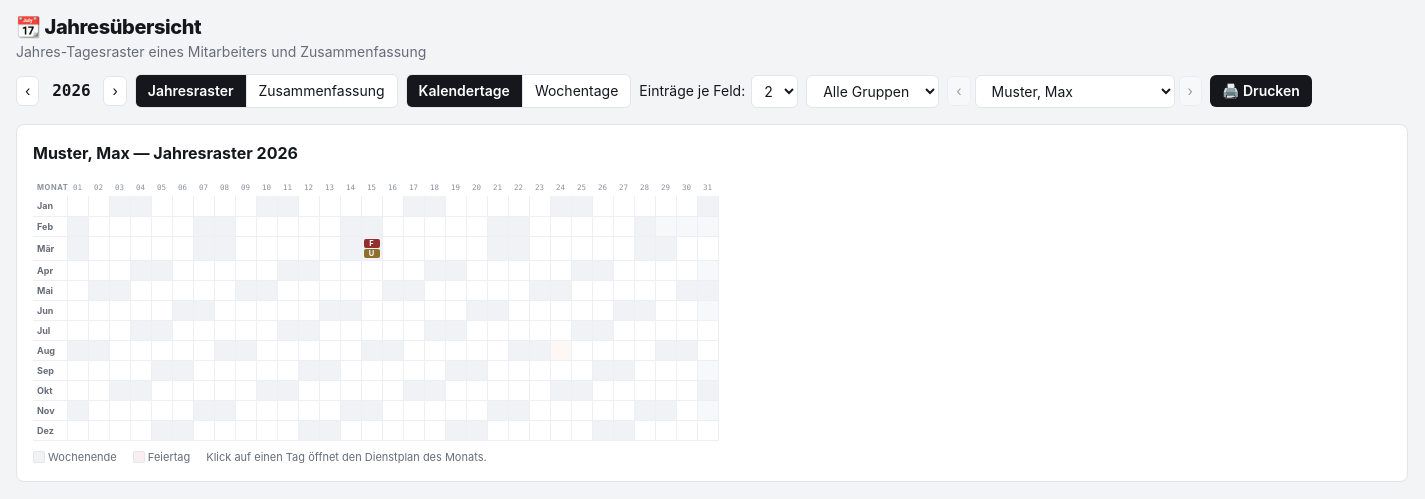
Test: Jahresübersicht — Anzeigeoptionen-Toolbar (Spec 4.11.11) › Einträge je Feld: Default 2, Auswahl 1 blendet Überzählige aus (▾)
Expected: the table with test id "jahresraster" is shown, [33,181,718,441]
Expected: the cell with test id "jr-cell-3-15" shows "F", [369,239,374,248]
Select "1" in the dropdown labelled "Einträge je Feld:" at (775, 91), box [751,74,798,108]
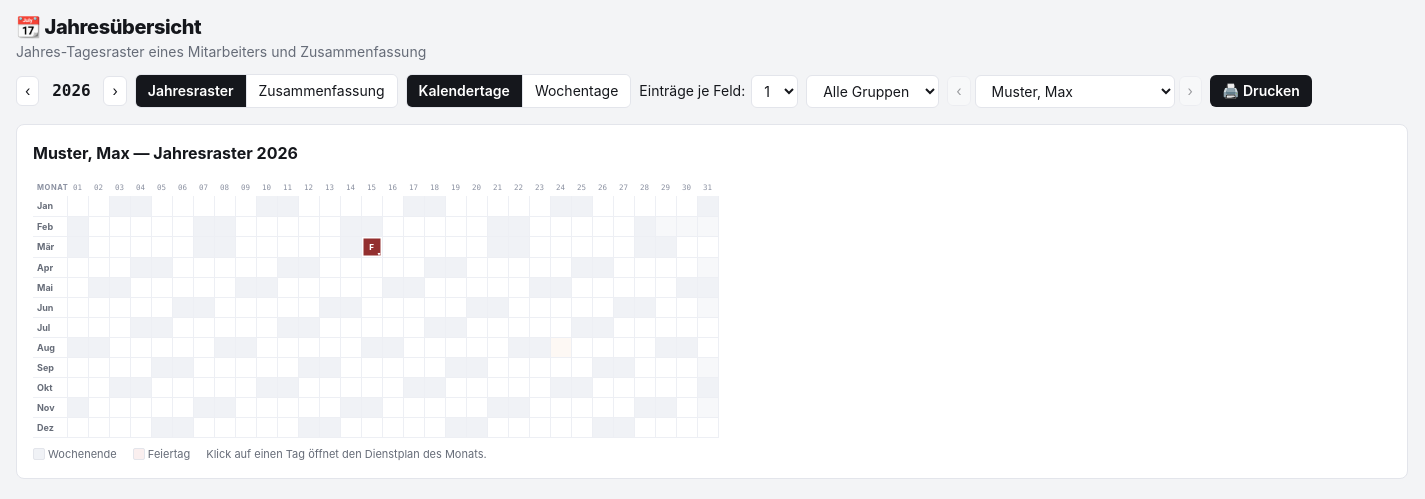
Expected: the cell with test id "jr-cell-3-15" shows "F", [369,242,374,252]
Expected: the text "▾" is shown, [378,251,380,257]
